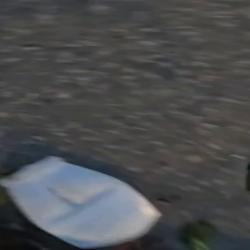Plastic: (0, 156, 162, 248)
